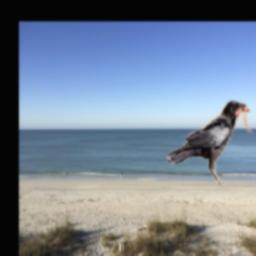Crow: (167, 97, 255, 184)
